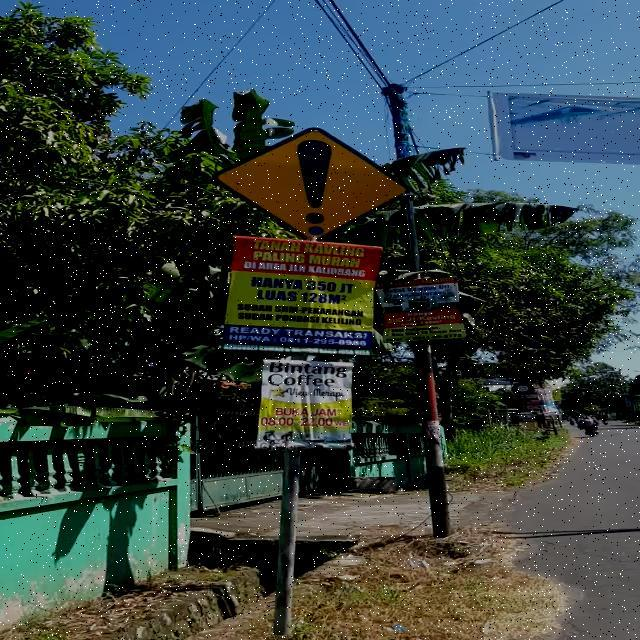Hati-Hati: (212, 127, 410, 241)
